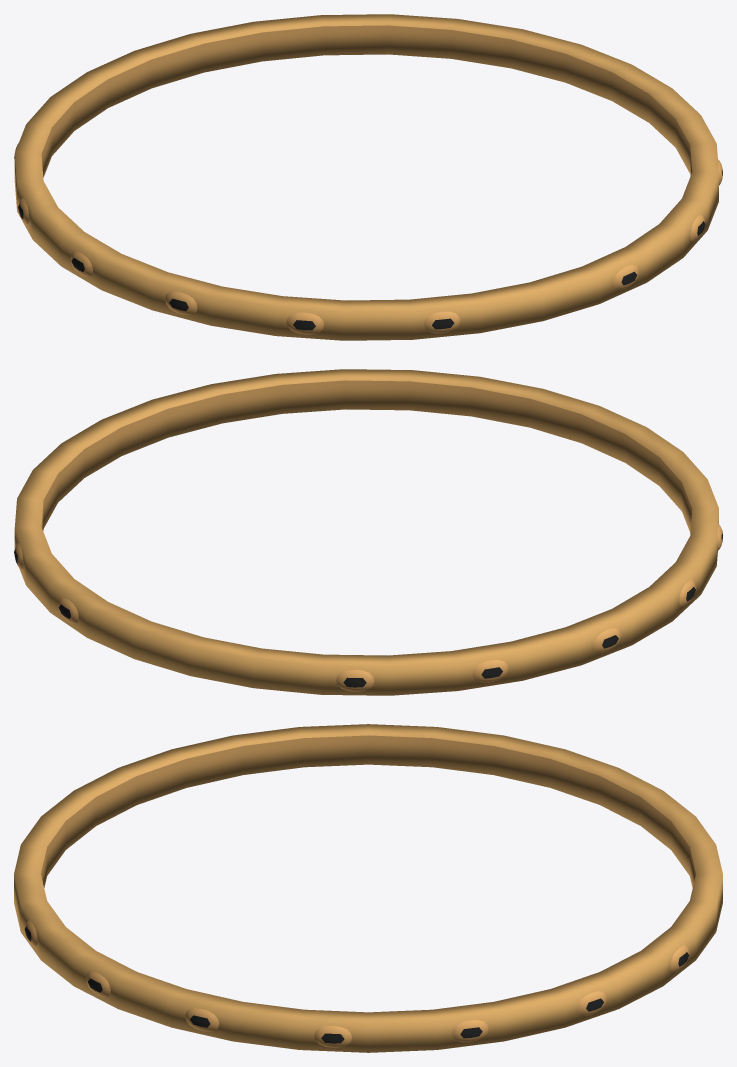
Rendered from MS_YellowTorus01_Boss03.fbx.
The picture shows the model from 3 angles, top to bottom: view 1: azimuth 30°, elevation 25°; view 2: azimuth 150°, elevation 25°; view 3: azimuth 270°, elevation 25°; orthographic projection.
Visible parts, largest first — view 1: MS_YellowTorus01_Boss03; view 2: MS_YellowTorus01_Boss03; view 3: MS_YellowTorus01_Boss03.
Boxes of the visible parts, x1,y1,x2,y2 form: MS_YellowTorus01_Boss03: (14, 14, 722, 340); MS_YellowTorus01_Boss03: (14, 369, 722, 695); MS_YellowTorus01_Boss03: (14, 724, 722, 1052).
Size of the model in its own units: 637 by 28.71 by 633.
